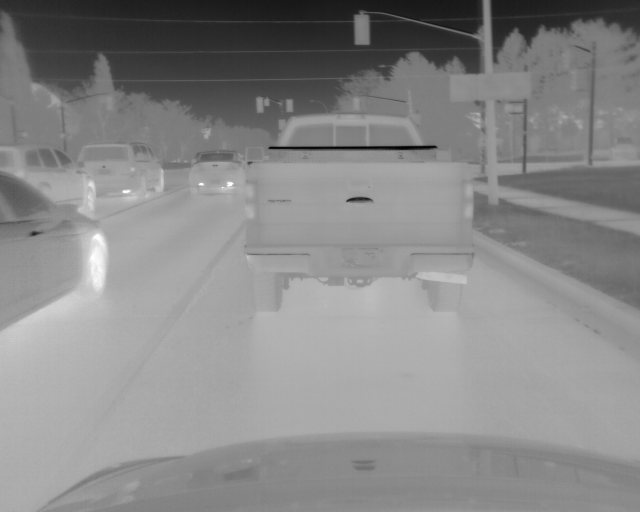car: (242, 112, 475, 316), (1, 172, 109, 333), (2, 144, 98, 214), (77, 142, 166, 198), (187, 149, 249, 197)
